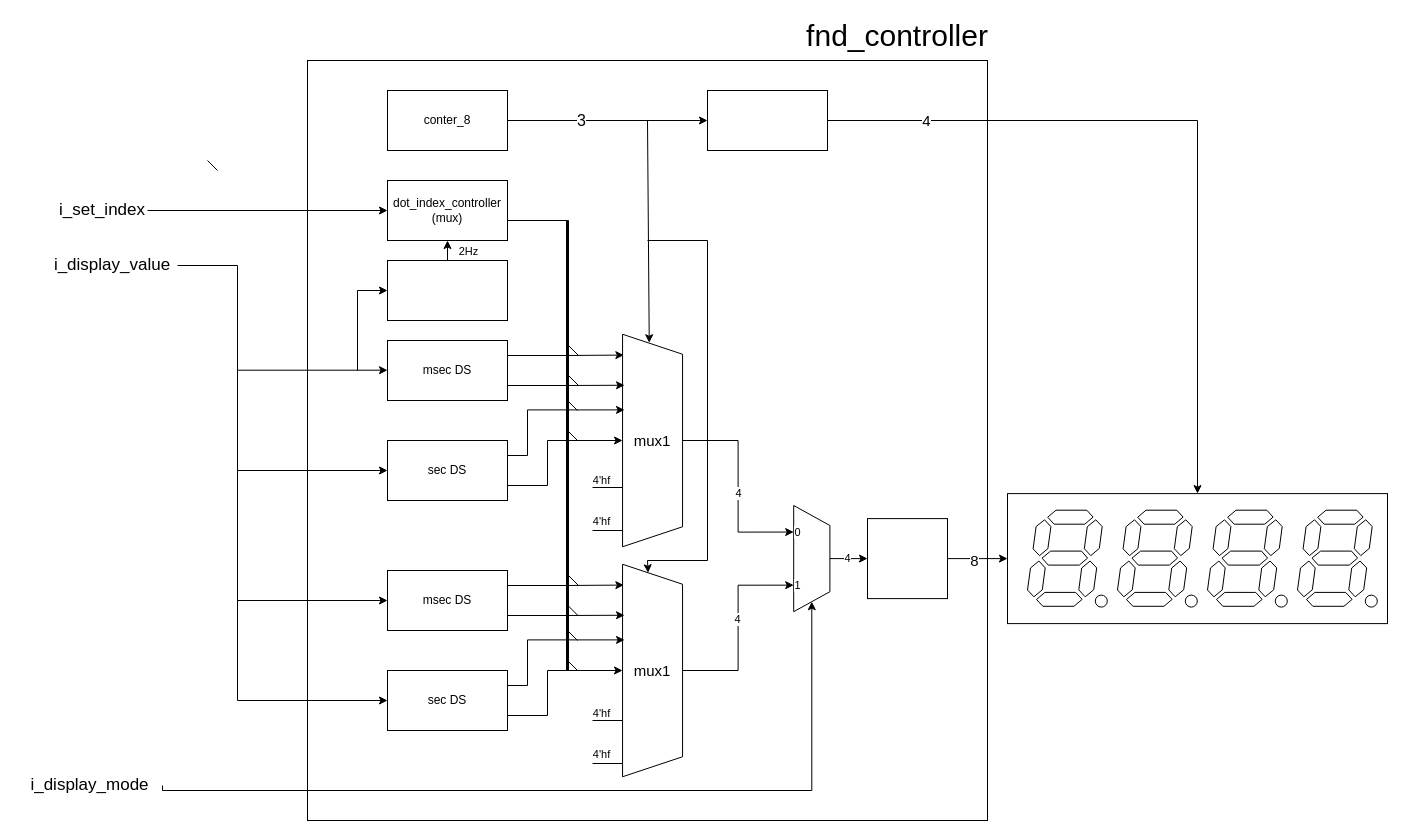
Image size: 1405x838. Some labels were removed from this diagram. The centre of each missing label's shape, as x and y in pixels:
"BCD" belongs at (x=907, y=558).
"comparator" belongs at (x=447, y=290).
"decoder_2x4" belongs at (x=767, y=120).
